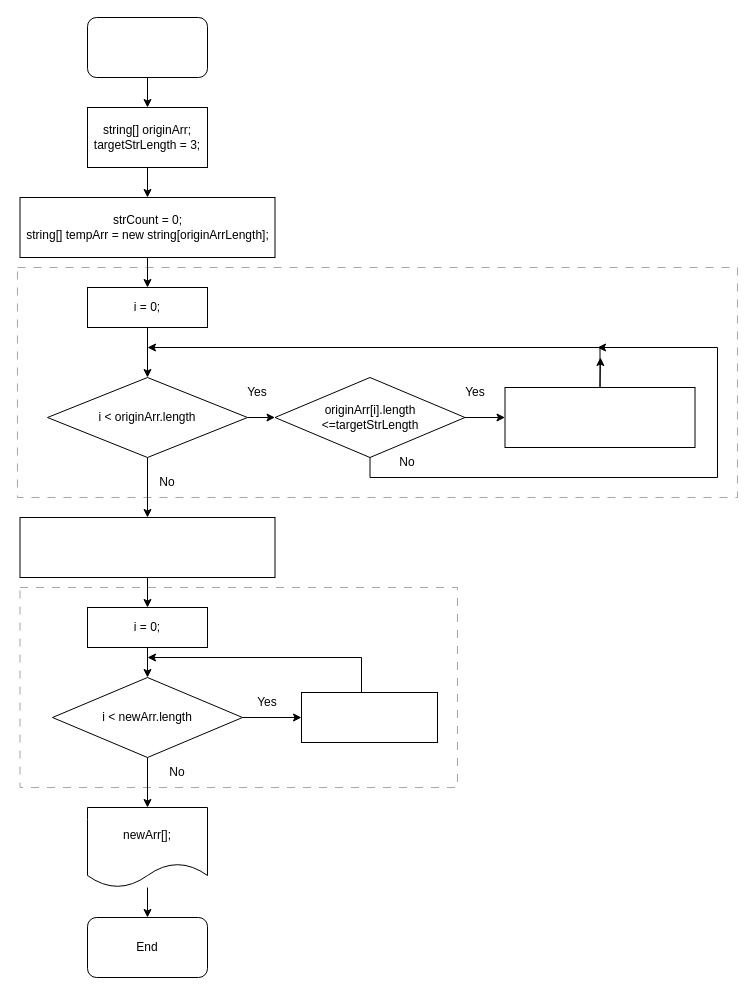
Image size: 755x995. Some labels were removed from this diagram. Each missing label, with the centre of its shape:
newArr[i] = tempArr[i]; i++;: (x=369, y=717)
srtCount++; tempArr[strCount -1] = originArr[i]; i++;: (x=599, y=417)
Start: (x=147, y=47)
string[] newArr = new string[strCount];: (x=147, y=547)
